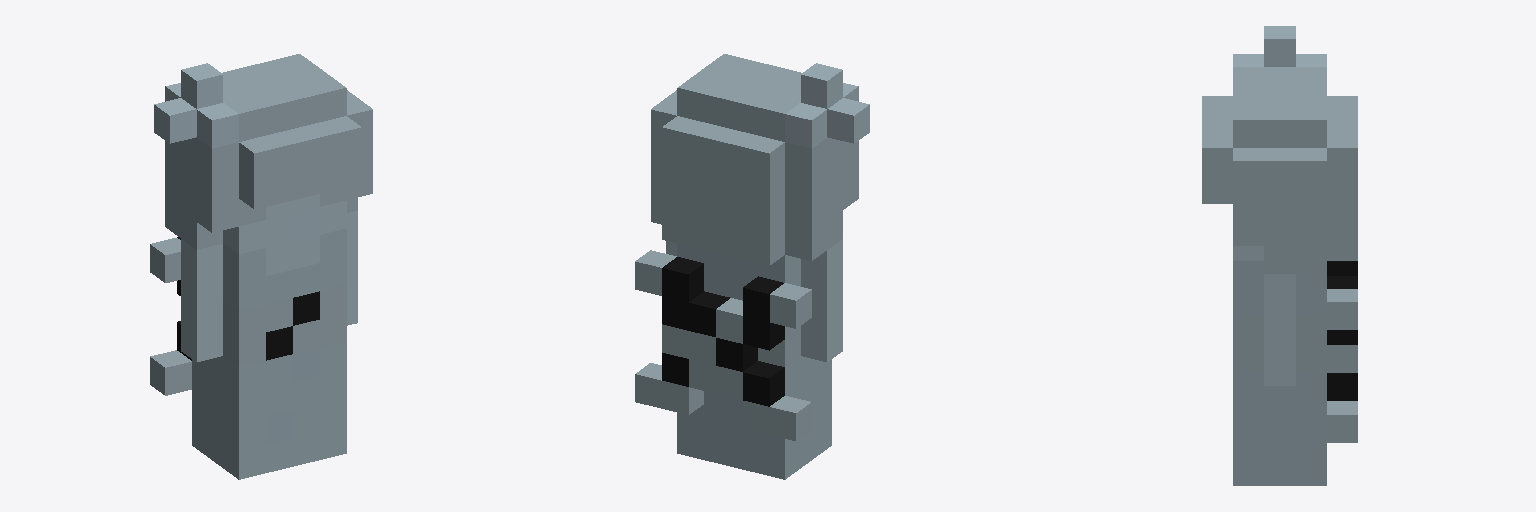
3 renders of one model, left to right at view 1: azimuth 30°, elevation 25°; view 2: azimuth 150°, elevation 25°; view 3: azimuth 270°, elevation 25°, orthographic.
Parts seen in each view (by area): view 1: girl2-1; view 2: girl2-1; view 3: girl2-1.
Boxes of the visible parts, x1=… form: girl2-1: x1=150, y1=54, x2=372, y2=479; girl2-1: x1=635, y1=54, x2=869, y2=479; girl2-1: x1=1202, y1=26, x2=1357, y2=485.
Bounding box in the file's own units: 7 × 14 × 5.
Materials: 1 (1 with a texture image).